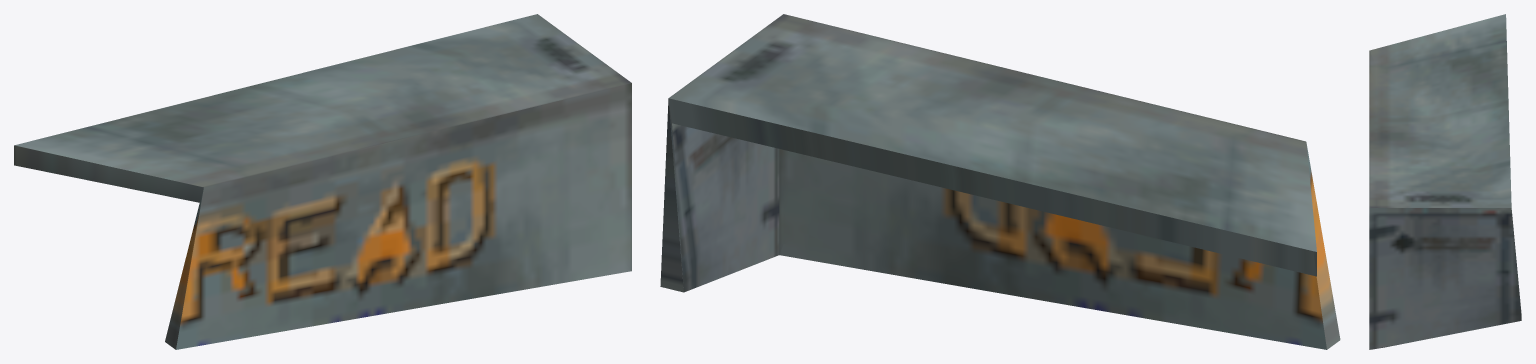
The model's file is Shared - Ground Vehicles - Big Rig - Damage State 23 - CVBigRig_d23.glb.
The picture shows the model from 3 angles, left to right: view 1: azimuth 30°, elevation 25°; view 2: azimuth 150°, elevation 25°; view 3: azimuth 270°, elevation 25°; orthographic projection. The views are drawn at different scales.
Parts seen in each view (by area): view 1: CVBIGRIG_D23; view 2: CVBIGRIG_D23; view 3: CVBIGRIG_D23.
Part boxes in pixels (x1=…): CVBIGRIG_D23: x1=14, y1=14, x2=631, y2=349; CVBIGRIG_D23: x1=660, y1=14, x2=1340, y2=349; CVBIGRIG_D23: x1=1369, y1=14, x2=1521, y2=349.
Size of the model in its own units: 17.25 by 5.88 by 5.71.
1 material, 1 textured.
